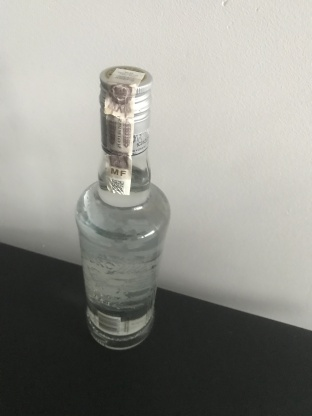nakretka: (97, 63, 153, 156)
